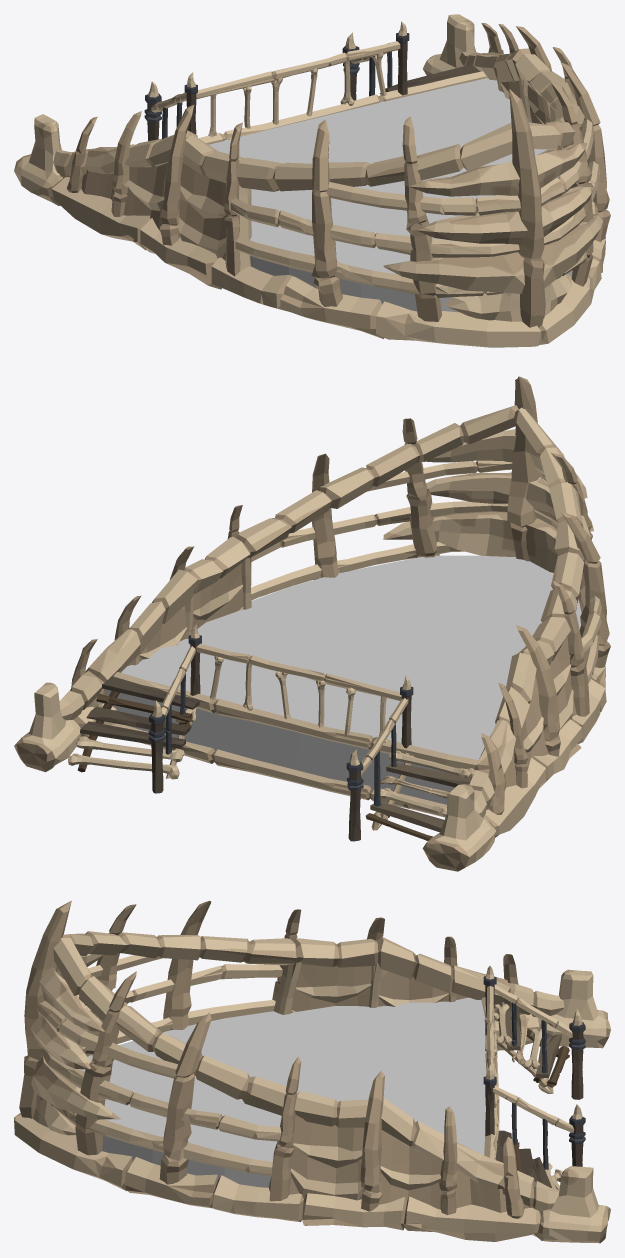
File: SM_Veh_Ship_L_Front_03.fbx
3 renders of one model, top to bottom at view 1: azimuth 30°, elevation 25°; view 2: azimuth 150°, elevation 25°; view 3: azimuth 270°, elevation 25°, orthographic. The views are drawn at different scales.
Visible parts, largest first — view 1: SM_Veh_Ship_L_Front_03; view 2: SM_Veh_Ship_L_Front_03; view 3: SM_Veh_Ship_L_Front_03.
Part boxes in pixels (x1,y1,x2,y2): SM_Veh_Ship_L_Front_03: (14, 14, 610, 347); SM_Veh_Ship_L_Front_03: (14, 376, 610, 871); SM_Veh_Ship_L_Front_03: (14, 900, 610, 1243).
Bounding box in the file's own units: 1055 × 554 × 1230.
